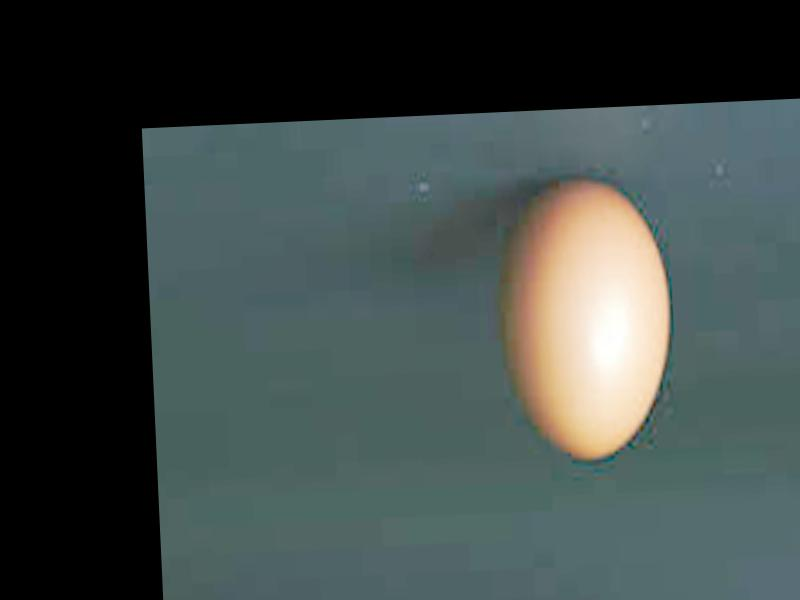Eggs: (500, 175, 673, 461)
